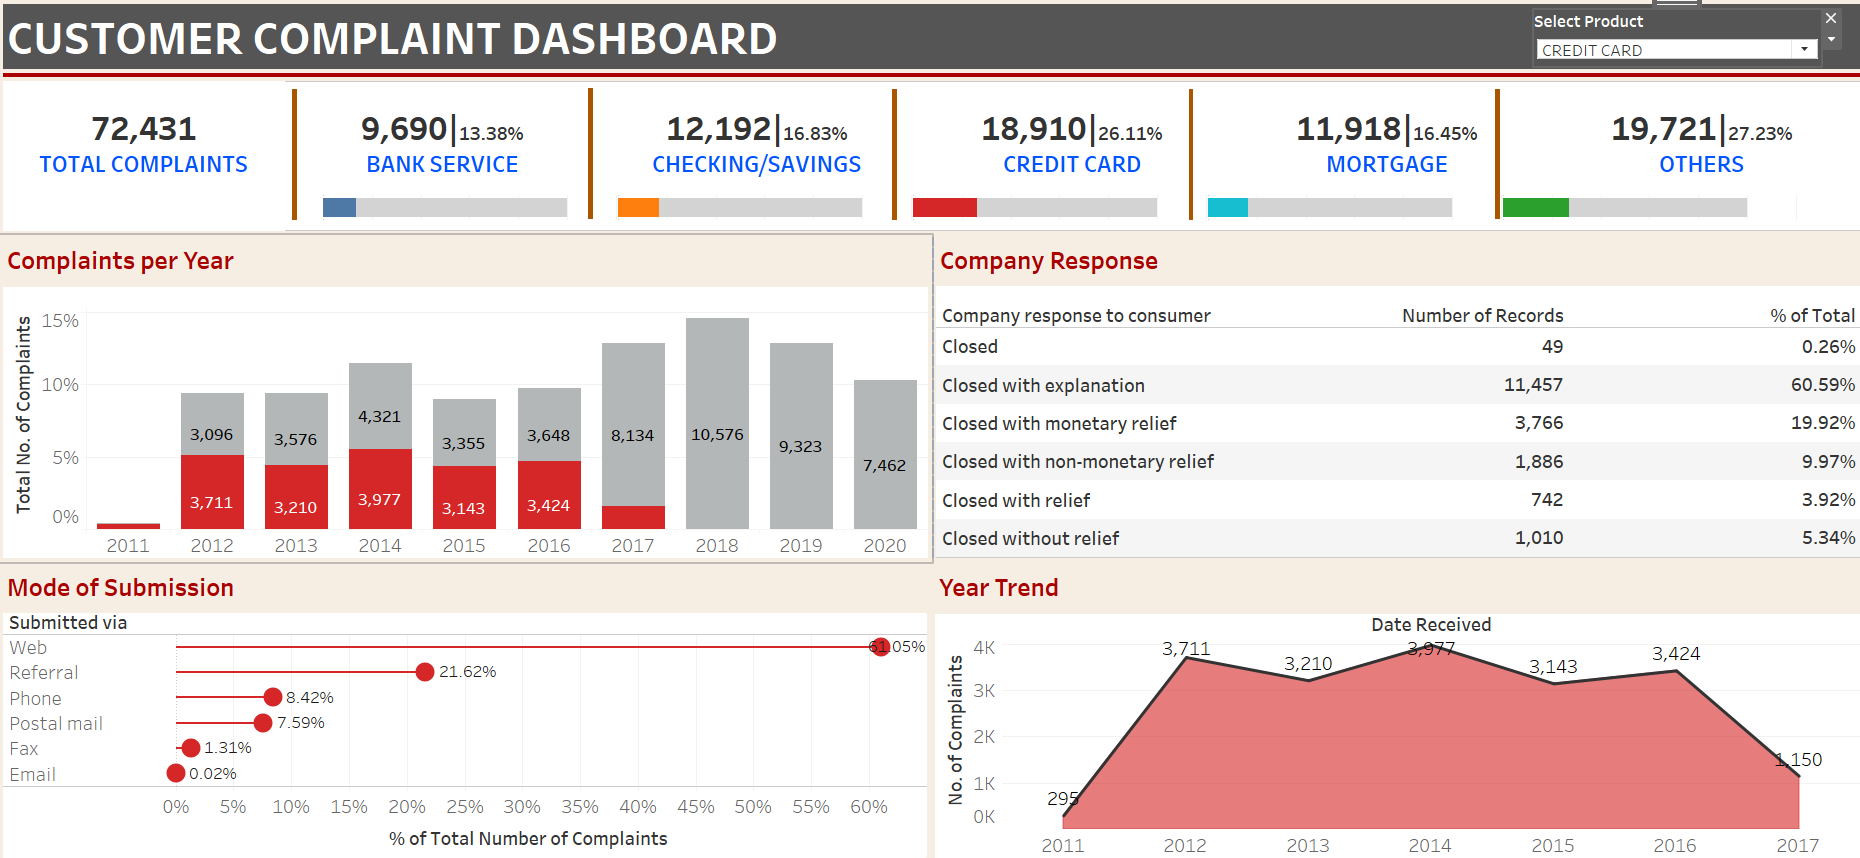

The page's visual inventory and layout, read from the dashboard file:
{"tool":"tableau","page":{"name":"CUSTOMER COMPLAINT DASHBOARD","canvas":[1000,1000],"units":"permille","ordinal":0},"visuals":[{"type":"title","box":[4.2,9.1,991.5,83.1]},{"type":"parameter","param":"[Parameters].[Parameter 1]","box":[819.8,20.5,152.7,63.8]},{"type":"blank","box":[4.2,92.2,991.5,4.6]},{"type":"worksheet","title":"Total KPI","mark":"Automatic","box":[4.2,96.8,151.9,180]},{"type":"worksheet","title":"KPI","mark":"Automatic","box":[156.1,96.8,839.6,180]},{"type":"blank","box":[317.3,109.3,2.5,149.2]},{"type":"blank","box":[160.2,110.5,2.5,149.2]},{"type":"blank","box":[478.7,110.5,2.5,149.2]},{"type":"blank","box":[636.4,110.5,2.5,149.2]},{"type":"blank","box":[799.1,110.5,2.5,148.1]},{"type":"worksheet","title":"%complaints","mark":"Bar","cols":["Calculation_1206964711924609025","Number of Complaints"],"box":[176.5,231.2,783.5,28.5]},{"type":"worksheet","title":"complaints/yr","mark":"Bar","rows":["Number of Complaints"],"cols":["Date Received"],"box":[4.2,276.8,495.8,372.4]},{"type":"worksheet","title":"Company Response","mark":"Automatic","rows":["Company response to consumer"],"box":[500,276.8,495.8,372.4]},{"type":"worksheet","title":"Request Type","mark":"Automatic","rows":["Submitted via"],"box":[4.2,649.1,495.2,341.8]},{"type":"worksheet","title":"Year Trend","mark":"Area","rows":["Number of Complaints","Number of Complaints"],"cols":["Date Received"],"box":[499.4,649.1,496.3,341.8]}]}

Visuals, with their boxes on the dashboard's canvas, which has no fixed pixel size, in thousandths of its width and height (x1, y1, x2, y2). These are canvas units, not pixel positions in the 1860x858 screenshot, which may show the page scaled, cropped or inside an application window:
title: box=[4, 9, 996, 92]
parameter: box=[820, 20, 972, 84]
blank: box=[4, 92, 996, 97]
"Total KPI" worksheet: box=[4, 97, 156, 277]
"KPI" worksheet: box=[156, 97, 996, 277]
blank: box=[317, 109, 320, 258]
blank: box=[160, 110, 163, 260]
blank: box=[479, 110, 481, 260]
blank: box=[636, 110, 639, 260]
blank: box=[799, 110, 802, 259]
"%complaints" worksheet (Bar marks): box=[176, 231, 960, 260]
"complaints/yr" worksheet (Bar marks): box=[4, 277, 500, 649]
"Company Response" worksheet: box=[500, 277, 996, 649]
"Request Type" worksheet: box=[4, 649, 499, 991]
"Year Trend" worksheet (Area marks): box=[499, 649, 996, 991]
